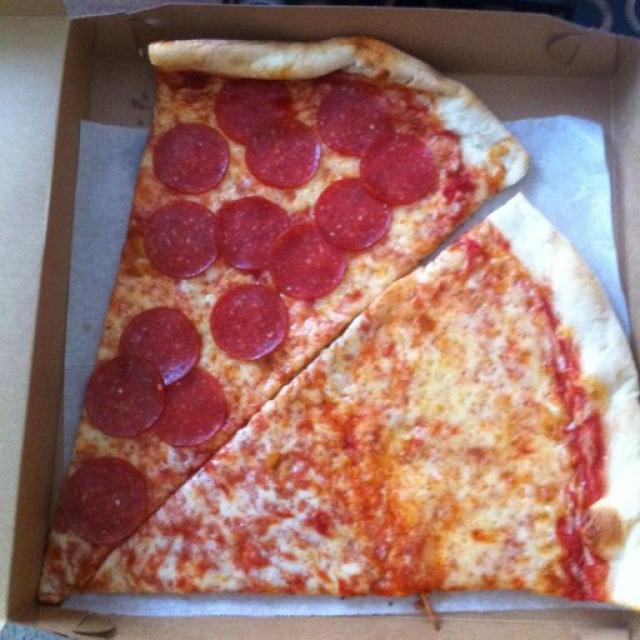Pepperoni: (115, 307, 206, 395), (213, 195, 299, 276), (69, 461, 147, 548), (142, 192, 214, 286), (81, 354, 162, 434), (357, 130, 439, 208), (310, 178, 395, 253), (210, 284, 288, 364), (146, 370, 223, 447), (270, 224, 345, 300), (153, 124, 228, 196), (212, 72, 297, 135), (243, 119, 326, 182), (320, 88, 392, 150)
Pizza: (41, 39, 640, 604)
